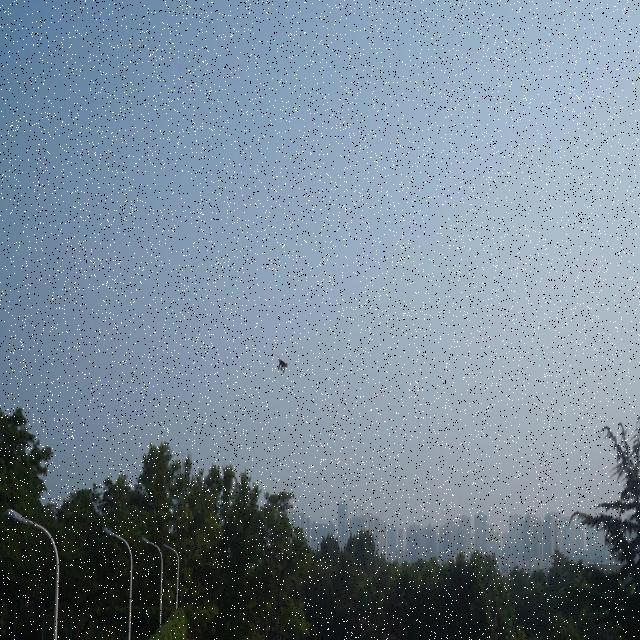UAV: (276, 355, 290, 374)
